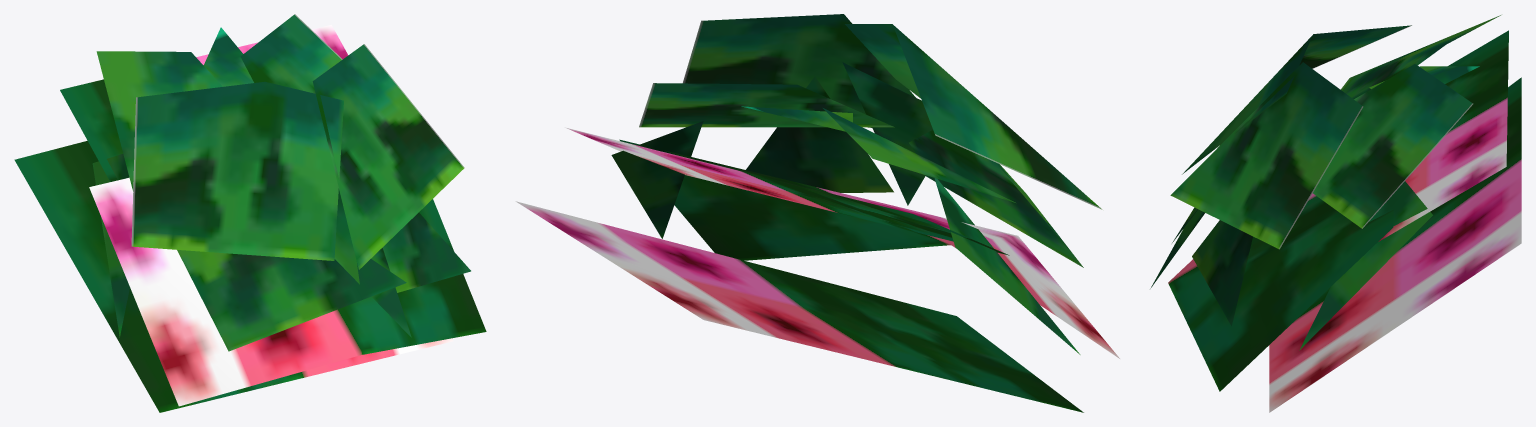
The model's file is fg_bushA_2.dae.
3 renders of one model, left to right at view 1: azimuth 30°, elevation 25°; view 2: azimuth 150°, elevation 25°; view 3: azimuth 270°, elevation 25°, orthographic. The views are drawn at different scales.
Visible parts, largest first — view 1: fg_bushA_2; view 2: fg_bushA_2; view 3: fg_bushA_2.
Boxes of the visible parts, bbox=[...] form: fg_bushA_2: bbox=[14, 14, 486, 412]; fg_bushA_2: bbox=[515, 14, 1119, 412]; fg_bushA_2: bbox=[1150, 15, 1521, 412].
Size of the model in its own units: 42.31 by 33.77 by 38.68.
Materials: 1 (1 with a texture image).
